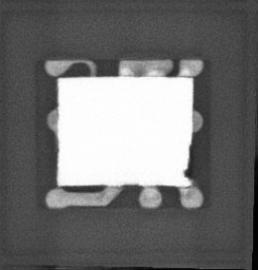DIE_BROKEN: (182, 144, 194, 182)
